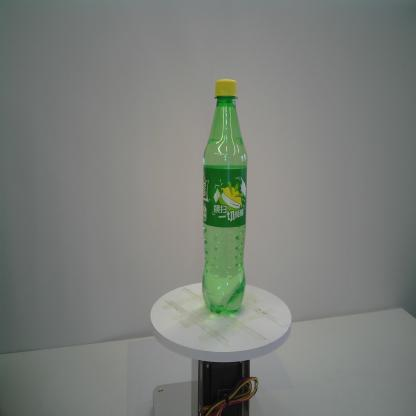Drink: (200, 76, 250, 317)
